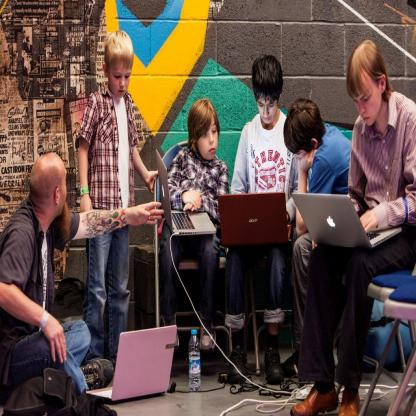board: (86, 324, 176, 404), (292, 194, 402, 246), (156, 151, 216, 234), (220, 192, 297, 247), (188, 328, 202, 393)
